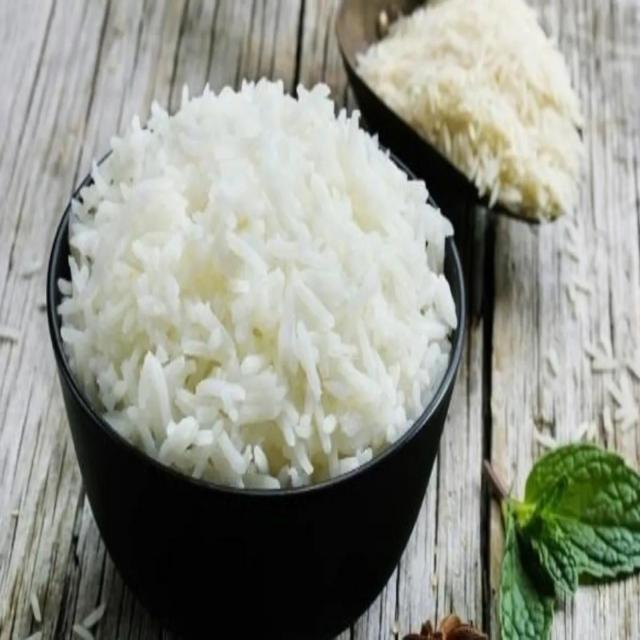rice: (57, 74, 460, 486), (352, 0, 588, 218)
